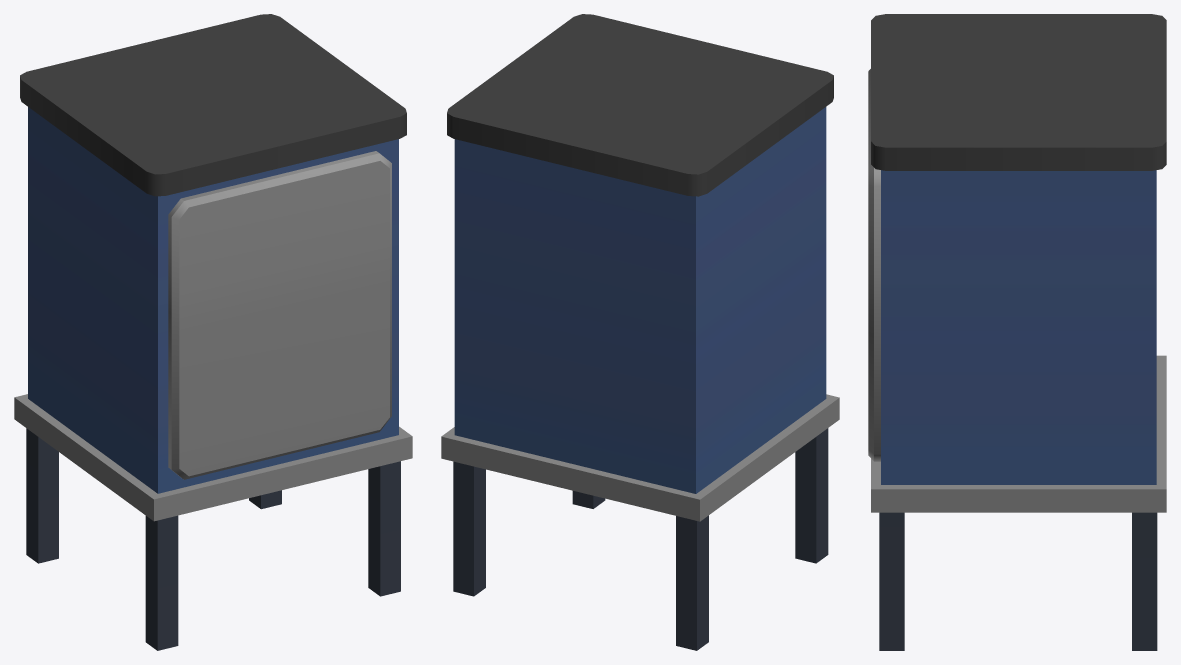
Rendered from ElectricBox_1_C_1.fbx.
The picture shows the model from 3 angles, left to right: view 1: azimuth 30°, elevation 25°; view 2: azimuth 150°, elevation 25°; view 3: azimuth 270°, elevation 25°; orthographic projection. The views are drawn at different scales.
Visible parts, largest first — view 1: ElectricBox_1_C_1; view 2: ElectricBox_1_C_1; view 3: ElectricBox_1_C_1.
Part boxes in pixels (bbox=[...]): ElectricBox_1_C_1: bbox=[14, 14, 412, 650]; ElectricBox_1_C_1: bbox=[441, 14, 839, 650]; ElectricBox_1_C_1: bbox=[868, 14, 1166, 650].
Bounding box in the file's own units: 129 × 229 × 122.
